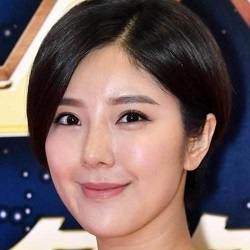unmask: (37, 66, 188, 239)
